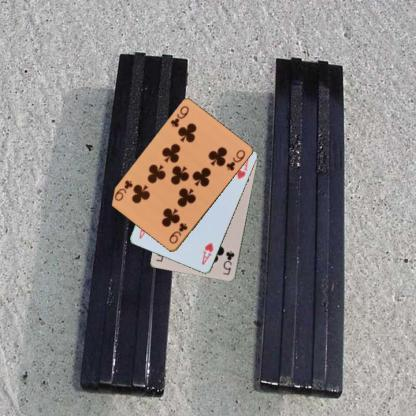5c: (221, 249, 236, 276)
9c: (166, 220, 189, 245), (168, 103, 190, 129)
Ah: (200, 240, 214, 266)
